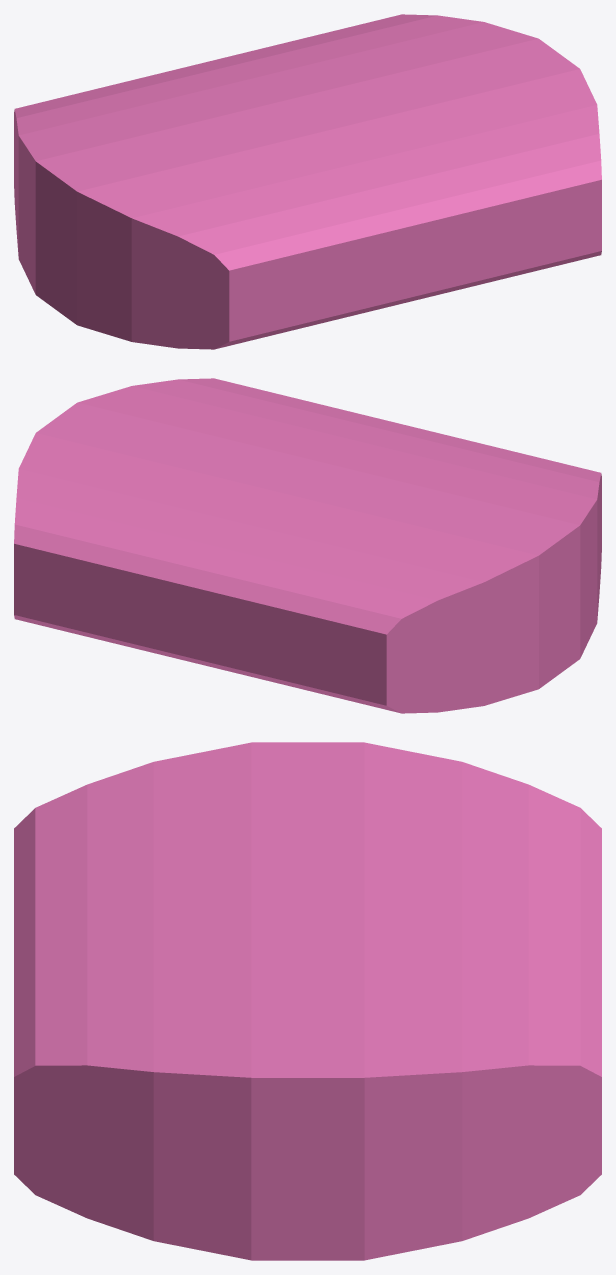
Rendered from collection_basic_soap_bar.glb.
3 renders of one model, top to bottom at view 1: azimuth 30°, elevation 25°; view 2: azimuth 150°, elevation 25°; view 3: azimuth 270°, elevation 25°, orthographic. The views are drawn at different scales.
Parts seen in each view (by area): view 1: Cube; view 2: Cube; view 3: Cube.
Boxes of the visible parts, x1,y1,x2,y2 form: Cube: [14, 14, 601, 349]; Cube: [14, 378, 601, 713]; Cube: [14, 742, 601, 1260].
Size of the model in its own units: 0.2699 by 0.0686 by 0.2.
